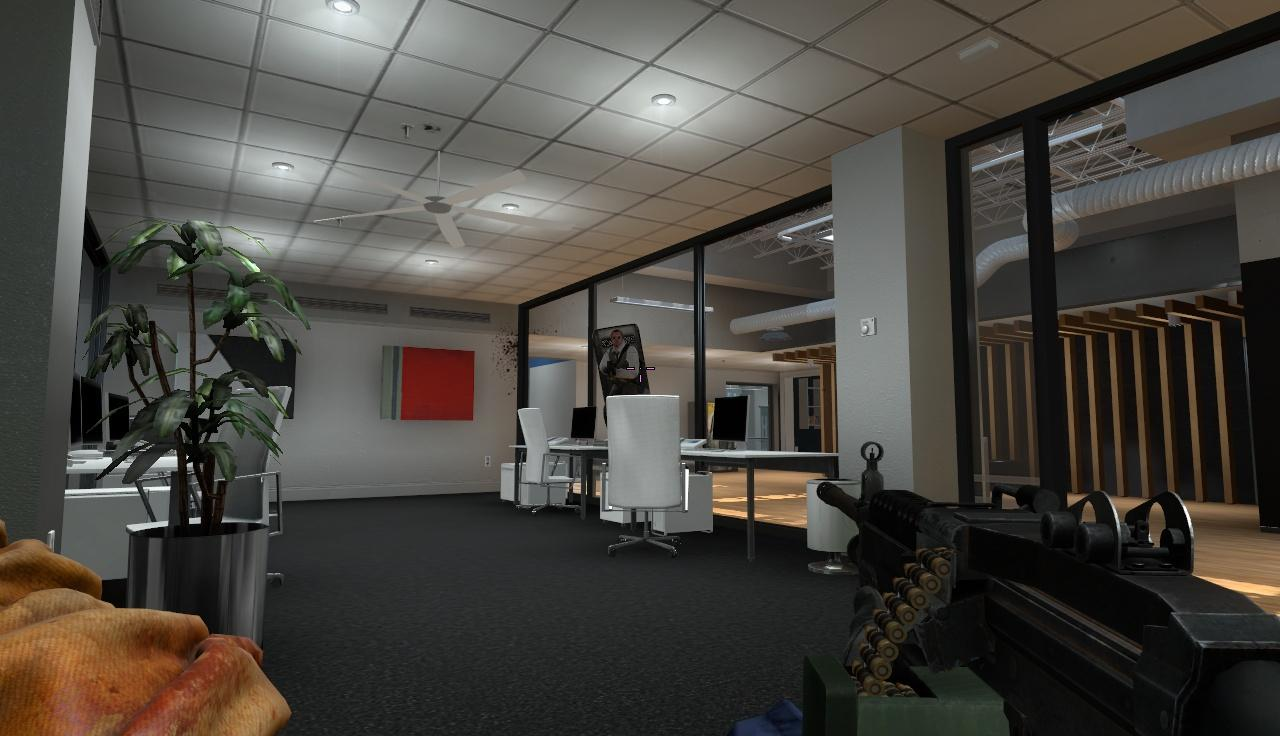rifle: (816, 440, 1280, 736)
tt: (599, 329, 641, 395)
tthead: (611, 329, 623, 347)
